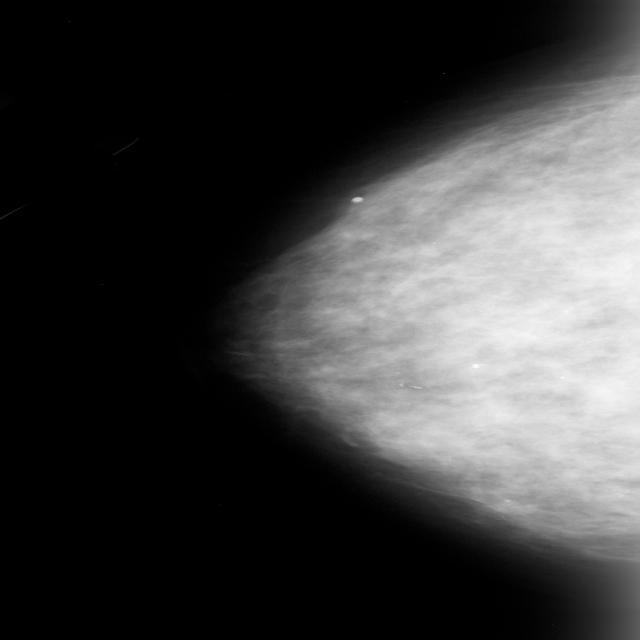cancer: (226, 58, 640, 532)
